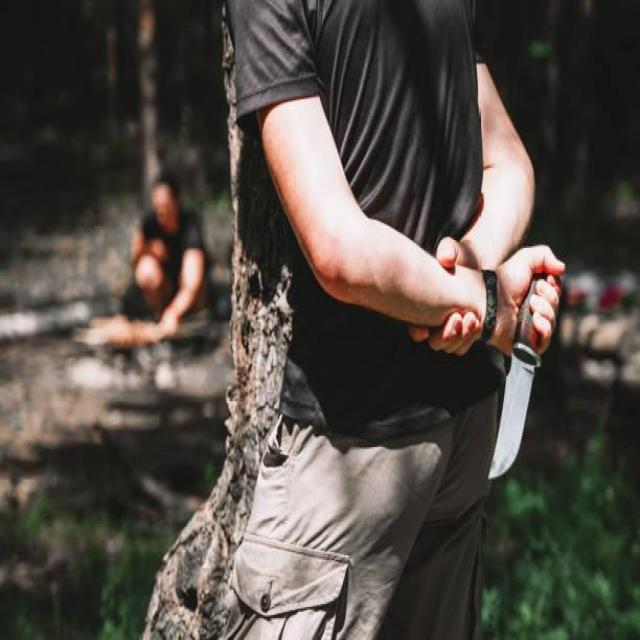faca: (486, 217, 564, 496)
